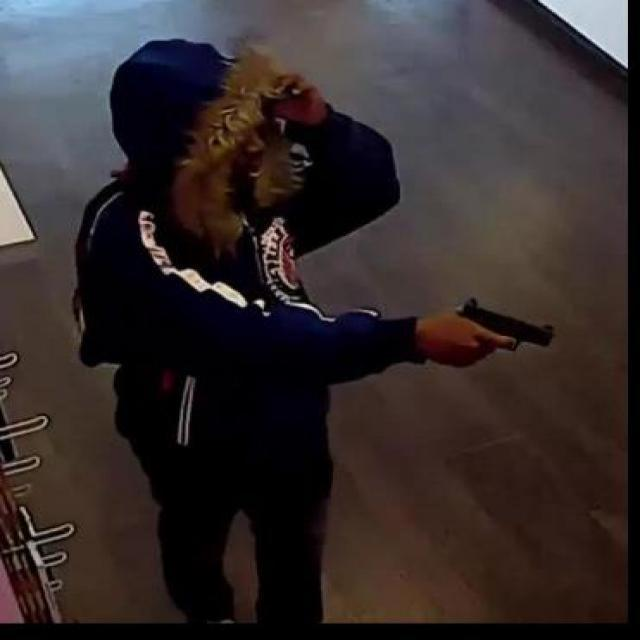weapon: (446, 296, 554, 368)
